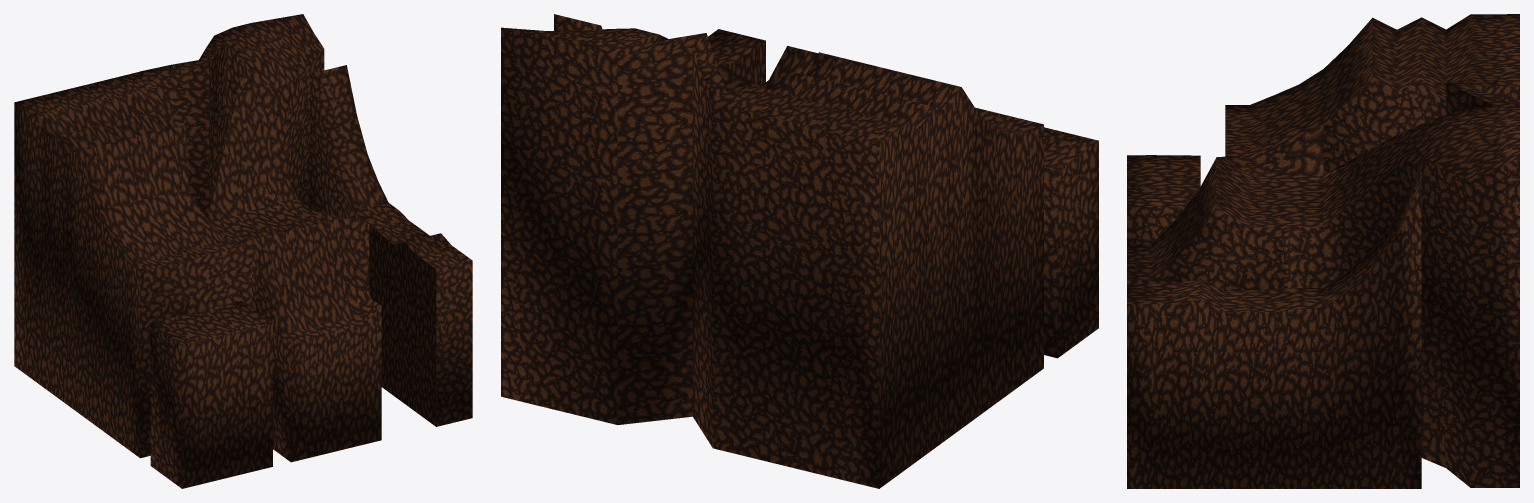
Rendered from stage.gltf.
The picture shows the model from 3 angles, left to right: view 1: azimuth 30°, elevation 25°; view 2: azimuth 150°, elevation 25°; view 3: azimuth 270°, elevation 25°; orthographic projection. The views are drawn at different scales.
Parts seen in each view (by area): view 1: Cube; view 2: Cube; view 3: Cube.
Part boxes in pixels (left/top/right/bottom): Cube: left=14, top=14, right=472, bottom=488; Cube: left=501, top=14, right=1098, bottom=488; Cube: left=1127, top=14, right=1519, bottom=488.
Size of the model in its own units: 2 by 1.88 by 2.
2 materials, 2 textured.
